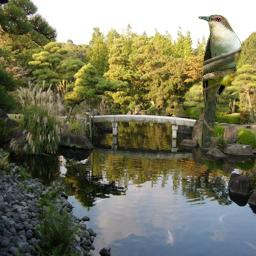Cuckoo: (198, 14, 243, 148)
